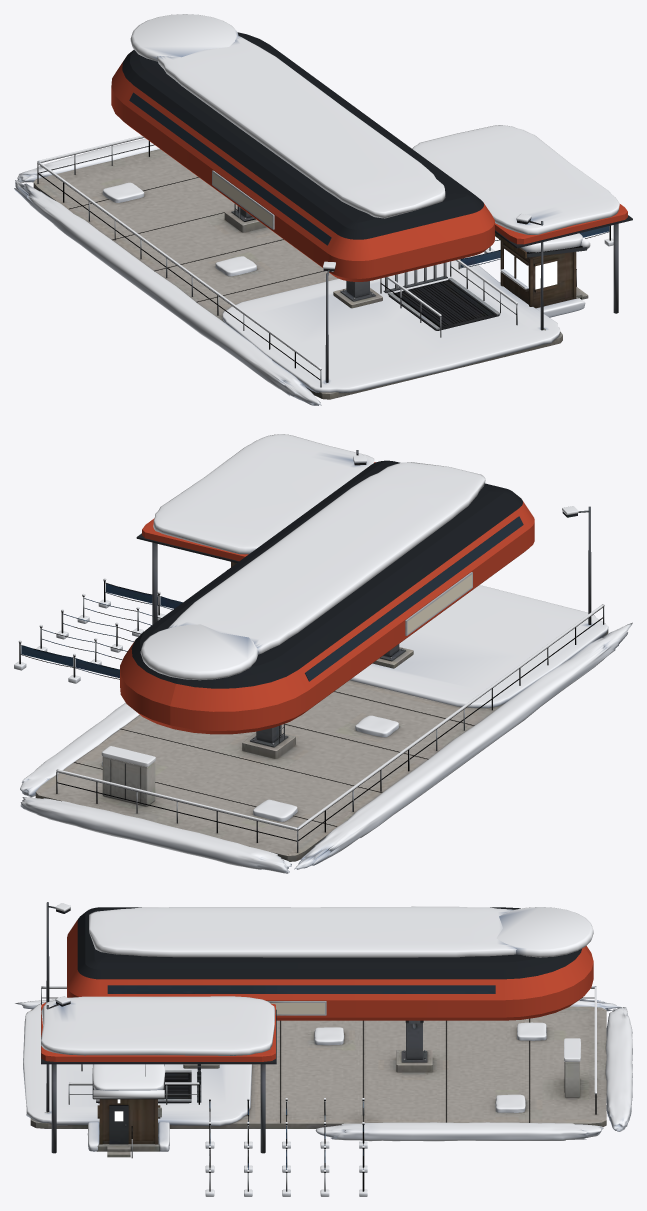
Rendered from terminal_detach_unig.glb.
3 views of the same model, one above another, from view 1: azimuth 30°, elevation 25°; view 2: azimuth 150°, elevation 25°; view 3: azimuth 270°, elevation 25° (orthographic). The views are drawn at different scales.
Parts seen in each view (by area): view 1: terminal_detach_unig_snow, terminal_detach_unig, terminal_detach_unig_paint, terminal_detach_unig_lit, terminal_detach_unig_flat; view 2: terminal_detach_unig_snow, terminal_detach_unig, terminal_detach_unig_paint, terminal_detach_unig_flat; view 3: terminal_detach_unig_snow, terminal_detach_unig, terminal_detach_unig_paint, terminal_detach_unig_flat.
Part boxes in pixels (box(x1,y1,x2,y2)): terminal_detach_unig_snow: box(14, 14, 619, 405); terminal_detach_unig: box(33, 92, 632, 399); terminal_detach_unig_paint: box(111, 32, 627, 281); terminal_detach_unig_lit: box(504, 249, 557, 289); terminal_detach_unig_flat: box(212, 173, 272, 227); terminal_detach_unig_snow: box(14, 434, 632, 873); terminal_detach_unig: box(19, 450, 608, 861); terminal_detach_unig_paint: box(120, 460, 534, 734); terminal_detach_unig_flat: box(407, 574, 472, 633); terminal_detach_unig_snow: box(15, 903, 632, 1196); terminal_detach_unig: box(30, 902, 606, 1191); terminal_detach_unig_paint: box(41, 907, 593, 1061); terminal_detach_unig_flat: box(270, 1003, 324, 1014).
Bounding box in the file's own units: 21.41 × 8 × 29.03.
7 materials, 1 textured.
